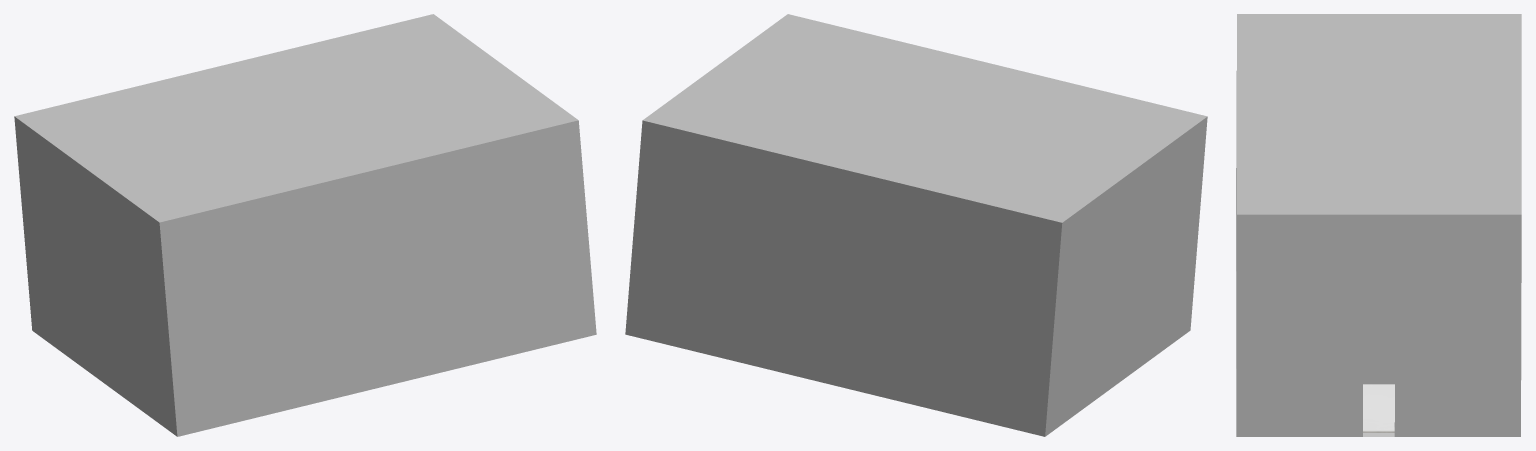
File: room.fbx
The picture shows the model from 3 angles, left to right: view 1: azimuth 30°, elevation 25°; view 2: azimuth 150°, elevation 25°; view 3: azimuth 270°, elevation 25°; orthographic projection. The views are drawn at different scales.
Parts seen in each view (by area): view 1: Cube; view 2: Cube; view 3: Cube.
Part boxes in pixels (box(x1,y1,x2,y2)): Cube: box(14, 14, 596, 436); Cube: box(625, 14, 1207, 436); Cube: box(1236, 14, 1521, 436).
Bounding box in the file's own units: 2084 × 1006 × 1203.
